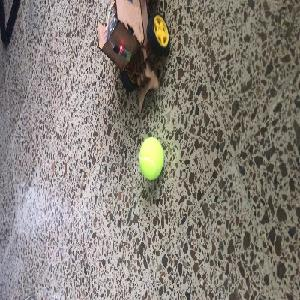Ball: (139, 137, 164, 180)
Robot: (96, 2, 169, 111)
